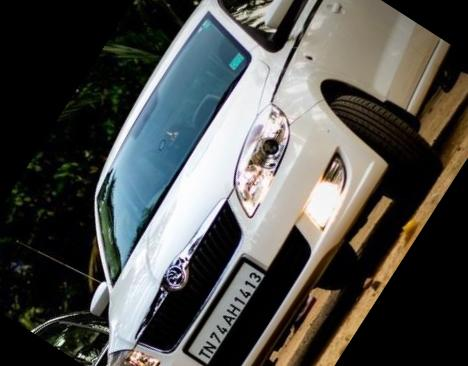plate: (167, 240, 290, 366)
